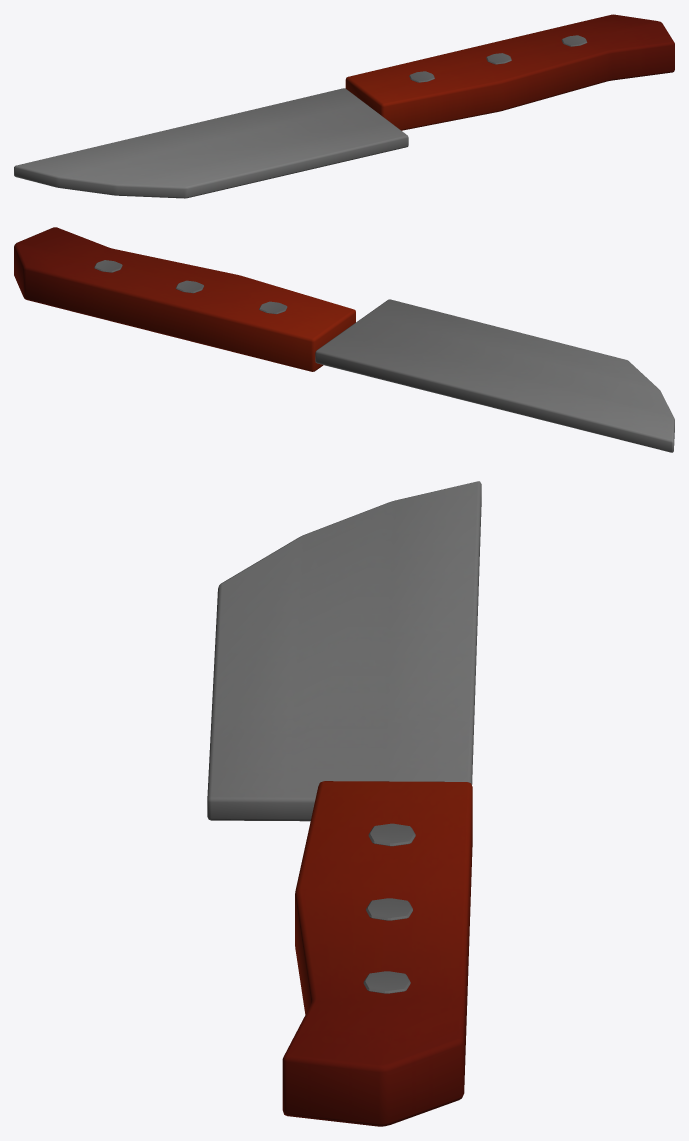
The model's file is Faca.fbx.
3 renders of one model, top to bottom at view 1: azimuth 30°, elevation 25°; view 2: azimuth 150°, elevation 25°; view 3: azimuth 270°, elevation 25°, orthographic. The views are drawn at different scales.
Visible parts, largest first — view 1: Plane; view 2: Plane; view 3: Plane.
Part boxes in pixels (x1,y1,x2,y2): Plane: [14, 14, 674, 198]; Plane: [14, 227, 674, 452]; Plane: [207, 481, 481, 1126].
Bounding box in the file's own units: 216 × 11.09 × 41.26.
1 material, 1 textured.
